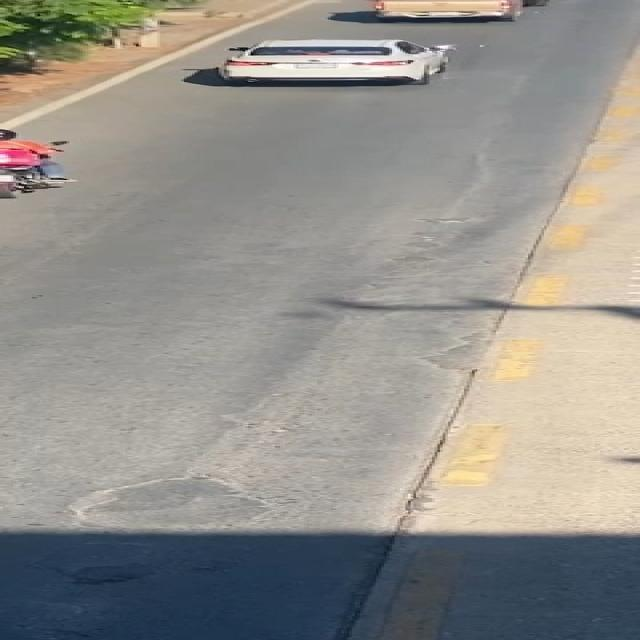car: (183, 32, 491, 94)
